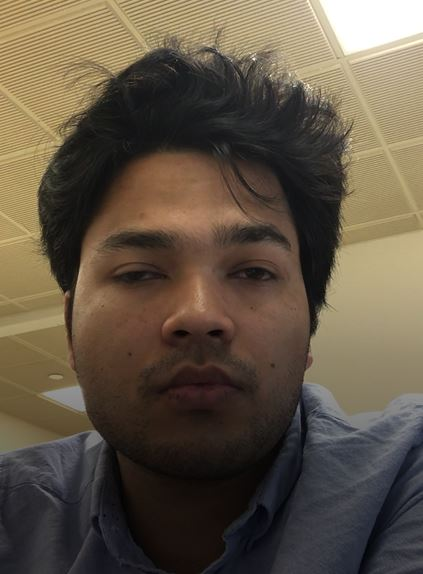Half Asleep: (88, 239, 309, 311)
